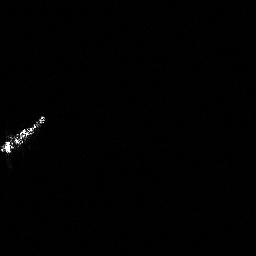ship: (1, 113, 48, 156)
